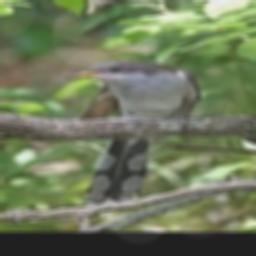Cuckoo: (63, 57, 199, 202)
